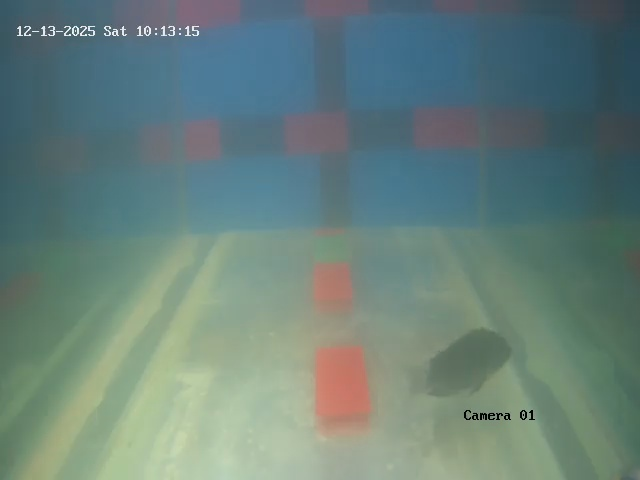fish: (412, 327, 513, 401)
